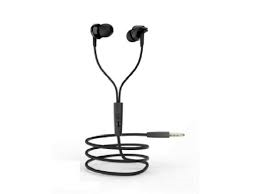earphone: (76, 15, 225, 172)
